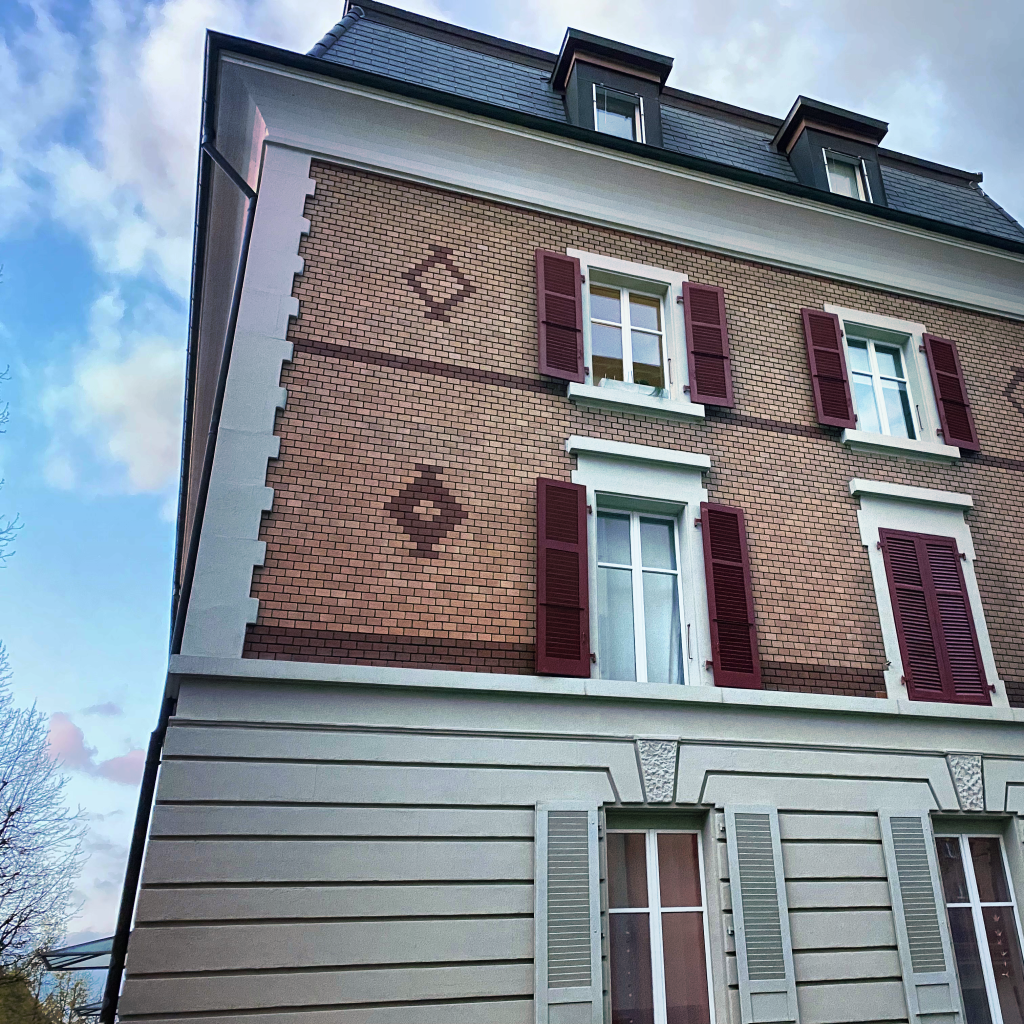glass_panel: (662, 914, 709, 1023), (948, 907, 990, 1023), (609, 913, 653, 1023), (982, 908, 1023, 1023), (643, 572, 682, 684), (598, 569, 635, 679), (657, 833, 702, 906), (607, 832, 647, 907), (968, 837, 1011, 903), (936, 837, 968, 903), (595, 88, 635, 139), (881, 379, 914, 438), (631, 330, 664, 387), (591, 324, 623, 380), (640, 518, 675, 569), (598, 513, 631, 564), (853, 373, 880, 432), (827, 156, 860, 198), (630, 293, 660, 331), (590, 285, 620, 323), (876, 346, 904, 377), (847, 340, 869, 372)
